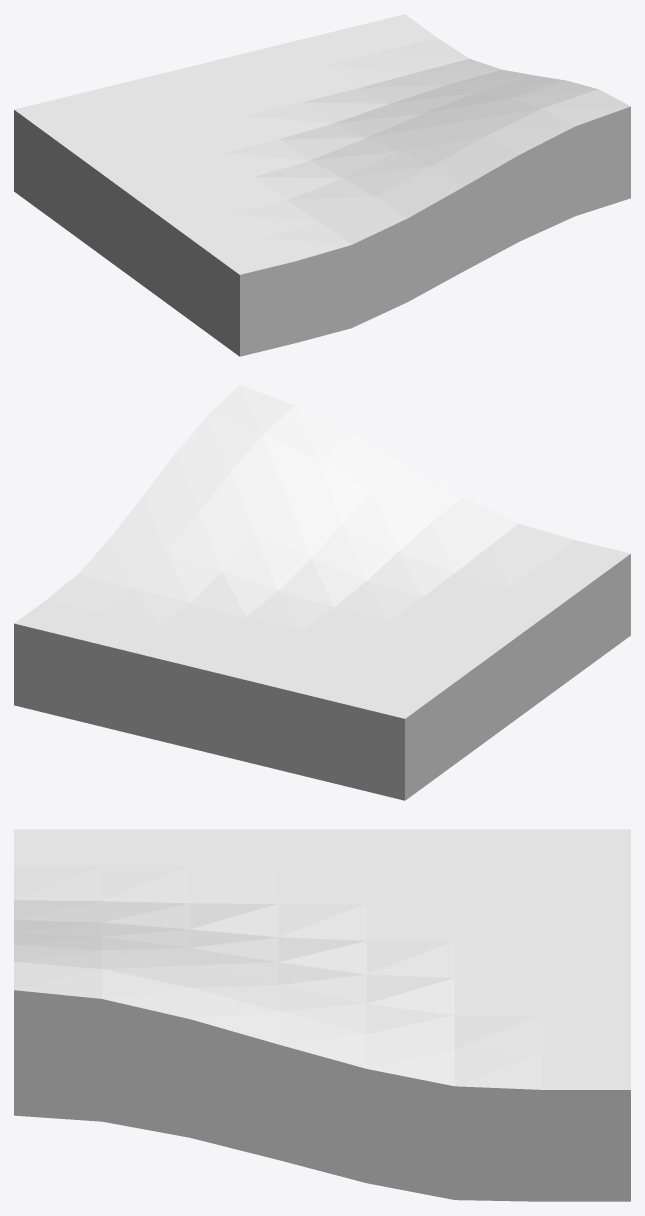
The model's file is CubeLiftedCorner_40x40x8.fbx.
The picture shows the model from 3 angles, top to bottom: view 1: azimuth 30°, elevation 25°; view 2: azimuth 150°, elevation 25°; view 3: azimuth 270°, elevation 25°; orthographic projection. The views are drawn at different scales.
Parts seen in each view (by area): view 1: CubeLiftedCorner_40x40x8; view 2: CubeLiftedCorner_40x40x8; view 3: CubeLiftedCorner_40x40x8.
Boxes of the visible parts, x1,y1,x2,y2 form: CubeLiftedCorner_40x40x8: [14, 14, 630, 356]; CubeLiftedCorner_40x40x8: [14, 385, 630, 800]; CubeLiftedCorner_40x40x8: [14, 829, 630, 1201].
Bounding box in the file's own units: 40 × 40 × 15.14.
